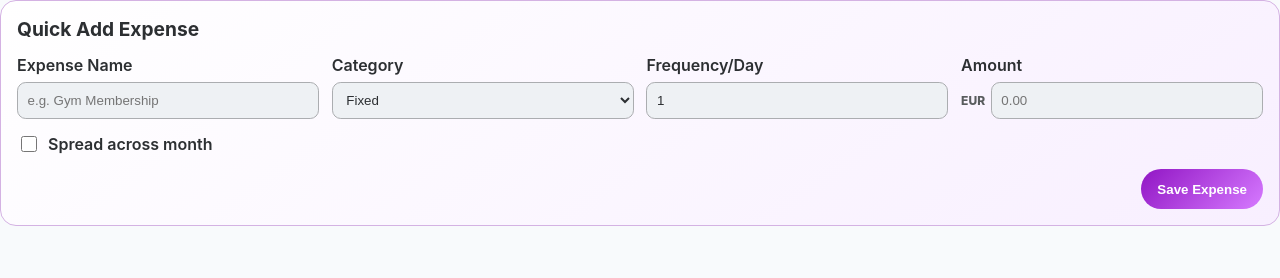
Test: ExpenseForm › validates empty name
Type "100" into the number field with test id "expense-amount" at (1127, 100), box [991,82,1263,119]
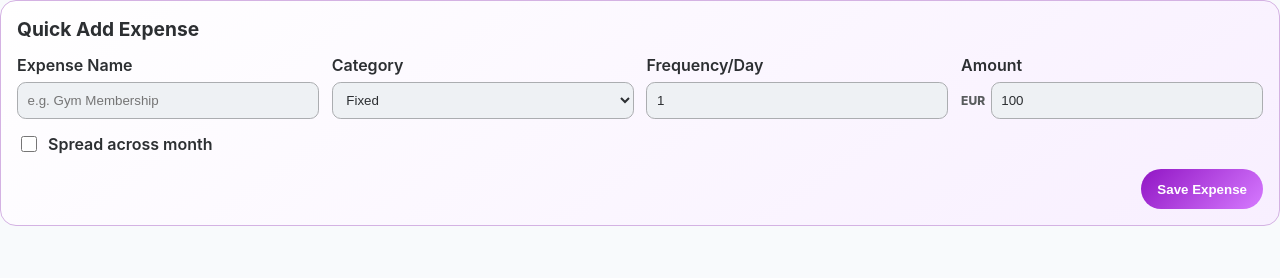
Click the button with test id "save-expense-button" at (1202, 189), box [1141,169,1263,209]
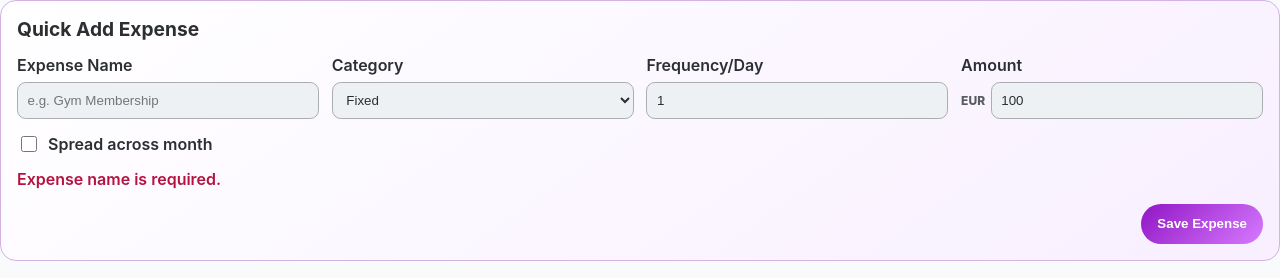
Expected: the text with test id "expense-form-error" reads "Expense name is required.", [17,169,221,189]
